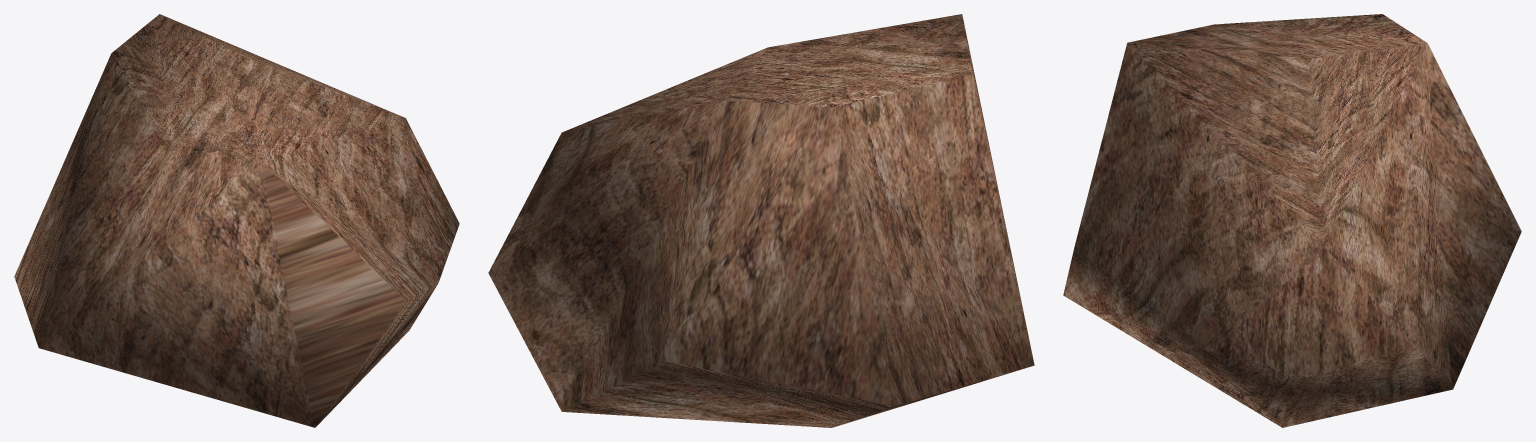
Rendered from rock_dath_desertboulder_l3.fbx.
3 renders of one model, left to right at view 1: azimuth 30°, elevation 25°; view 2: azimuth 150°, elevation 25°; view 3: azimuth 270°, elevation 25°, orthographic. The views are drawn at different scales.
Visible parts, largest first — view 1: mesh_node; view 2: mesh_node; view 3: mesh_node.
Boxes of the visible parts, x1,y1,x2,y2 form: mesh_node: (14,14,459,427); mesh_node: (488,14,1034,427); mesh_node: (1063,14,1521,427).
Size of the model in its own units: 1.62 by 1.15 by 1.51.
